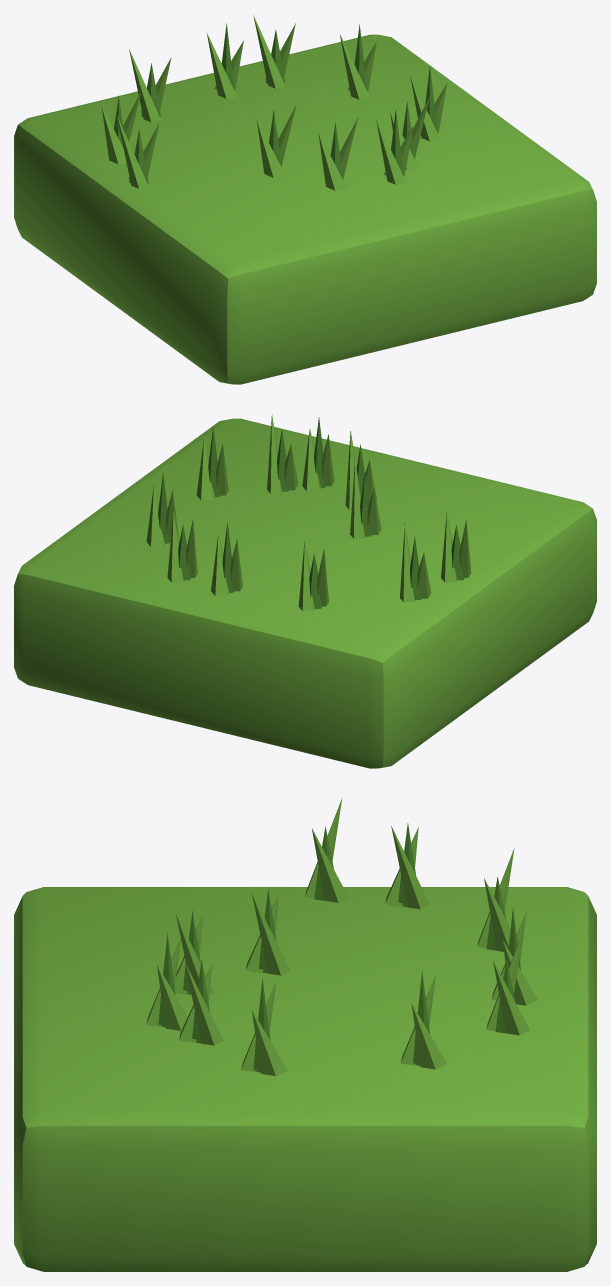
File: for_ground_grass.glb
The picture shows the model from 3 angles, top to bottom: view 1: azimuth 30°, elevation 25°; view 2: azimuth 150°, elevation 25°; view 3: azimuth 270°, elevation 25°; orthographic projection. The views are drawn at different scales.
Parts seen in each view (by area): view 1: for_ground_grass; view 2: for_ground_grass; view 3: for_ground_grass.
Part boxes in pixels (x1=…): for_ground_grass: x1=14, y1=15, x2=596, y2=384; for_ground_grass: x1=14, y1=414, x2=596, y2=768; for_ground_grass: x1=14, y1=798, x2=596, y2=1271.
Size of the model in its own units: 0.98 by 0.4699 by 0.98.
